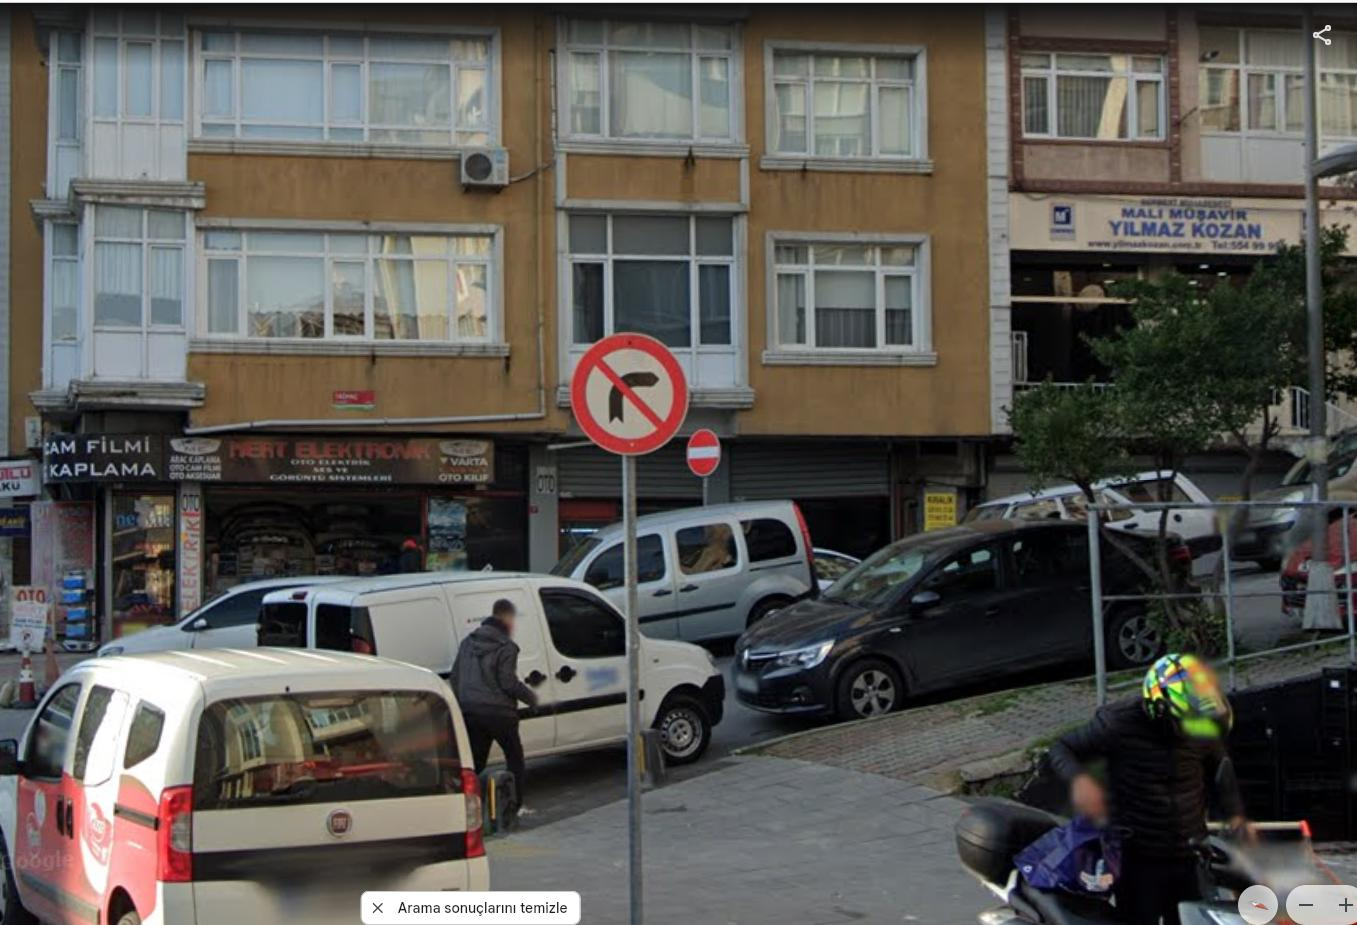rightturnsareforbidden: (578, 335, 680, 443)
